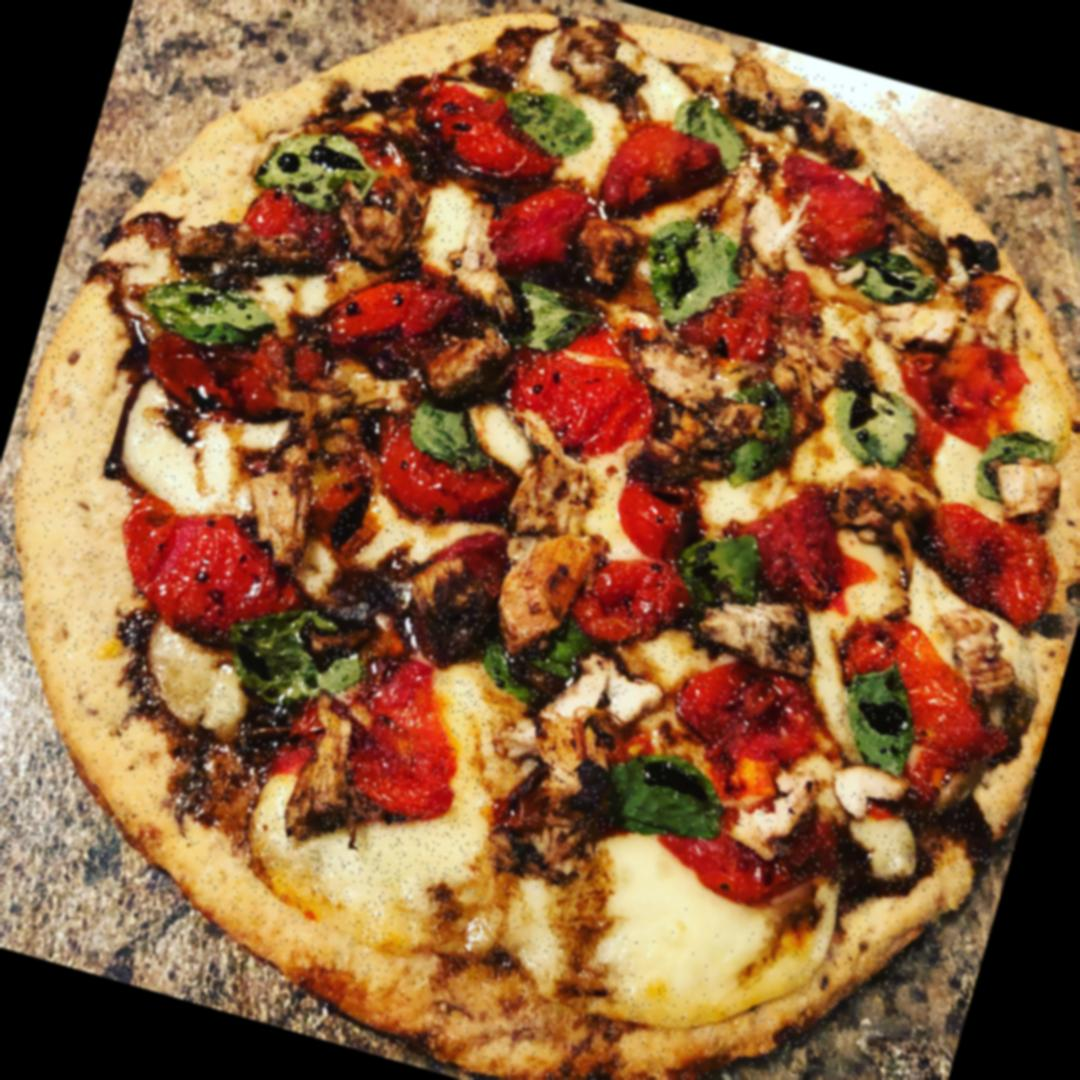Basil: (217, 593, 378, 724), (598, 743, 736, 852), (634, 212, 754, 336), (245, 112, 388, 212), (132, 268, 280, 362), (830, 660, 929, 782), (474, 617, 586, 719), (668, 520, 772, 620), (824, 376, 926, 476), (496, 276, 600, 362), (833, 239, 943, 319), (495, 82, 600, 163), (403, 395, 503, 473), (972, 424, 1058, 514), (666, 96, 757, 173)
Cheese: (258, 642, 516, 934), (572, 827, 808, 1014), (104, 382, 271, 514)
Chicken: (486, 441, 620, 652), (390, 175, 542, 318), (817, 458, 938, 580), (696, 578, 834, 677), (919, 602, 1029, 707), (229, 461, 330, 569)
Pizza: (0, 0, 1080, 1080)
Tomatoes: (98, 492, 322, 664), (639, 764, 841, 926), (830, 616, 1027, 769), (334, 647, 496, 828), (497, 308, 676, 471), (118, 302, 292, 432), (669, 643, 827, 772), (908, 498, 1066, 626), (758, 150, 902, 286), (408, 75, 572, 191), (315, 250, 457, 379), (374, 420, 532, 532), (891, 328, 1034, 448), (596, 116, 730, 237), (483, 180, 615, 292), (574, 549, 697, 658), (232, 177, 348, 270), (609, 474, 717, 566)
